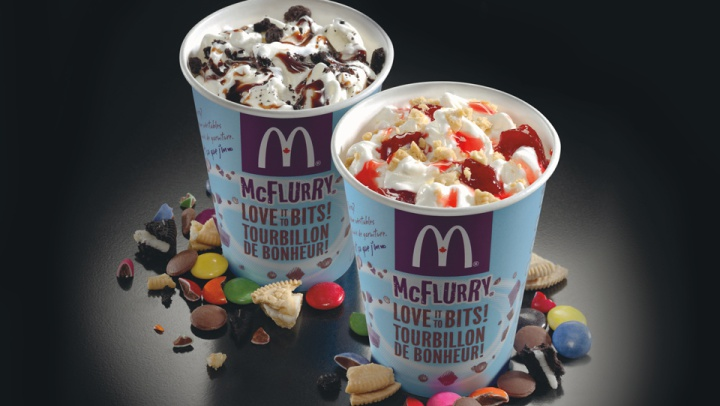mcdonalds: (406, 221, 478, 273), (253, 122, 319, 174)
